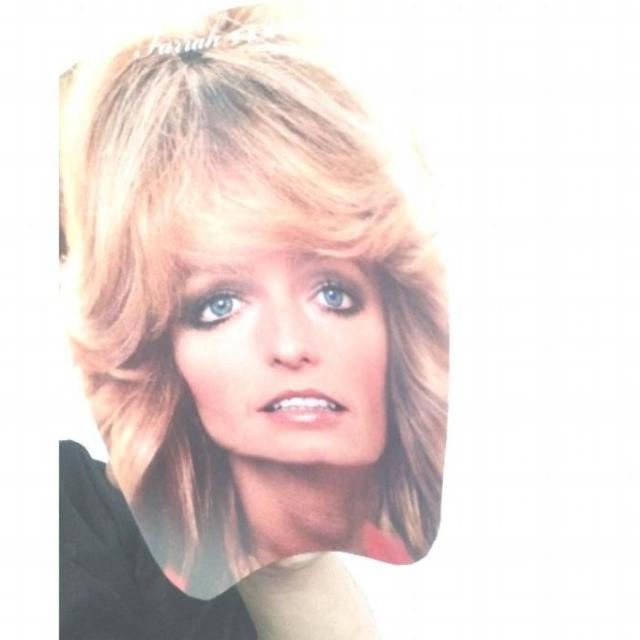photo: (60, 0, 457, 595)
